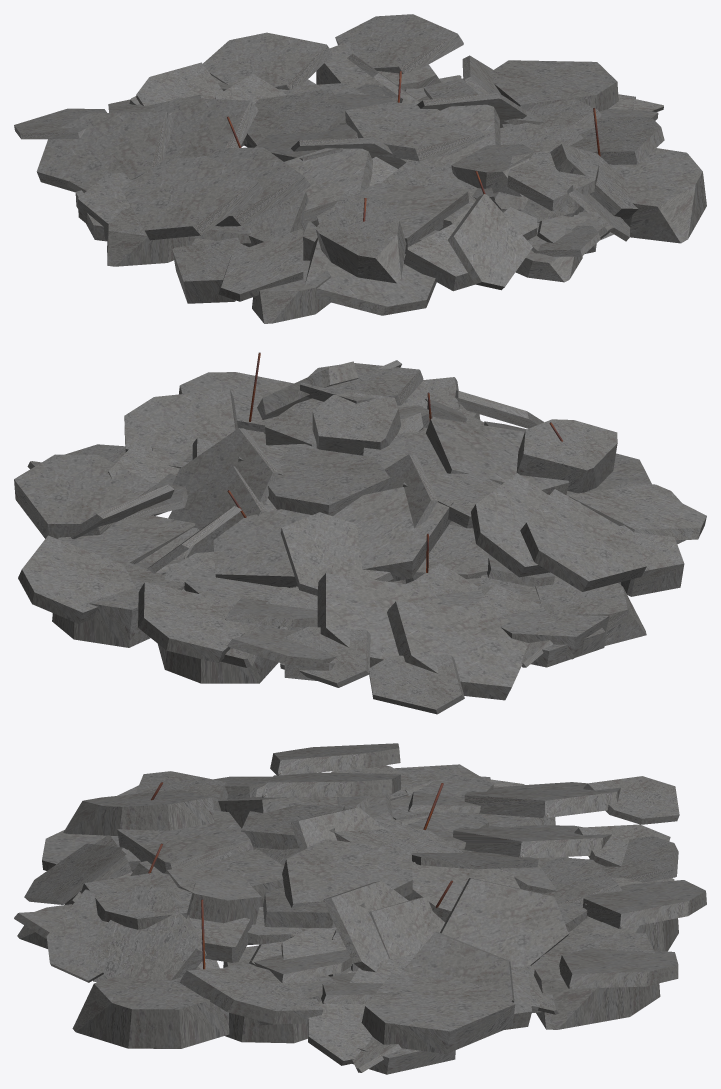
Rendered from runtuhan 1,2.fbx.
3 views of the same model, one above another, from view 1: azimuth 30°, elevation 25°; view 2: azimuth 150°, elevation 25°; view 3: azimuth 270°, elevation 25° (orthographic). The views are drawn at different scales.
Parts seen in each view (by area): view 1: Cube.266, Cube.272, Cube.215, Cube.048, Cube.204, Cube.261, Cube.259, Cube.247, Cube.154, Cube.051, Cube.250, Cube.194 (+40 smaller); view 2: Cube.272, Cube.266, Cube.261, Cube.242, Cube.259, Cube.204, Cube.250, Cube.247, Cube.048, Cube.216, Cube.151, Cube.234 (+44 smaller); view 3: Cube.261, Cube.215, Cube.241, Cube.156, Cube.204, Cube.260, Cube.216, Cube.048, Cube.151, Cube.247, Cube.259, Cube.272 (+49 smaller).
Part boxes in pixels (left/top/right/bottom): Cube.266: left=121, top=156, right=263, bottom=240; Cube.272: left=36, top=111, right=173, bottom=192; Cube.215: left=609, top=148, right=706, bottom=243; Cube.048: left=315, top=193, right=406, bottom=283; Cube.204: left=345, top=101, right=484, bottom=161; Cube.261: left=490, top=60, right=618, bottom=111; Cube.259: left=335, top=14, right=463, bottom=73; Cube.247: left=203, top=32, right=332, bottom=89; Cube.154: left=448, top=194, right=532, bottom=290; Cube.051: left=305, top=237, right=436, bottom=315; Cube.250: left=149, top=97, right=258, bottom=159; Cube.194: left=218, top=229, right=303, bottom=301; Cube.272: left=387, top=601, right=528, bottom=700; Cube.266: left=520, top=489, right=646, bottom=591; Cube.261: left=14, top=454, right=156, bottom=538; Cube.242: left=333, top=487, right=453, bottom=581; Cube.259: left=18, top=535, right=135, bottom=623; Cube.204: left=268, top=446, right=390, bottom=516; Cube.250: left=317, top=573, right=442, bottom=667; Cube.247: left=138, top=582, right=244, bottom=662; Cube.048: left=516, top=419, right=617, bottom=493; Cube.216: left=124, top=389, right=237, bottom=453; Cube.151: left=426, top=418, right=569, bottom=494; Cube.234: left=213, top=509, right=311, bottom=587; Cube.261: left=361, top=973, right=515, bottom=1053; Cube.215: left=72, top=967, right=229, bottom=1048; Cube.241: left=440, top=878, right=568, bottom=967; Cube.156: left=87, top=886, right=206, bottom=980; Cube.204: left=282, top=839, right=412, bottom=907; Cube.260: left=534, top=933, right=660, bottom=1029; Cube.216: left=180, top=966, right=323, bottom=1024; Cube.048: left=63, top=790, right=214, bottom=835; Cube.151: left=117, top=810, right=253, bottom=873; Cube.247: left=583, top=880, right=706, bottom=928; Cube.259: left=559, top=948, right=678, bottom=988; Cube.272: left=464, top=782, right=620, bottom=817.
Size of the model in its own units: 991 by 191 by 944.
